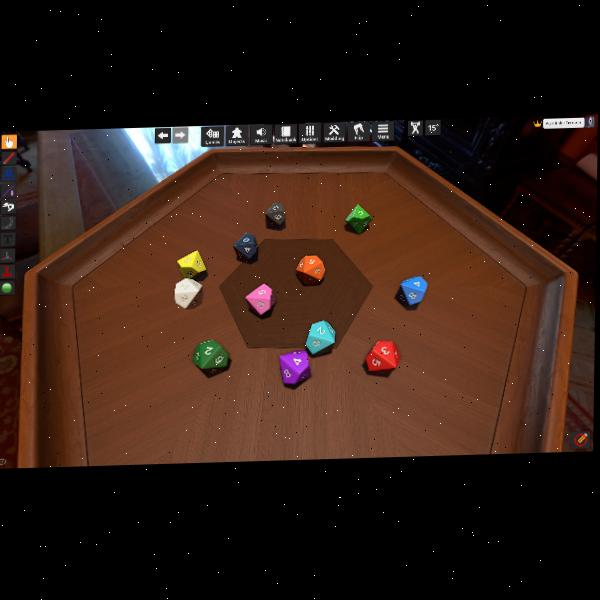d10: (193, 339, 230, 375), (365, 338, 398, 374), (279, 350, 310, 386), (305, 320, 335, 355), (245, 283, 276, 316), (174, 276, 203, 309), (297, 254, 325, 286), (178, 250, 206, 280), (344, 203, 371, 234), (399, 275, 426, 306), (232, 232, 258, 263), (265, 201, 286, 229)
